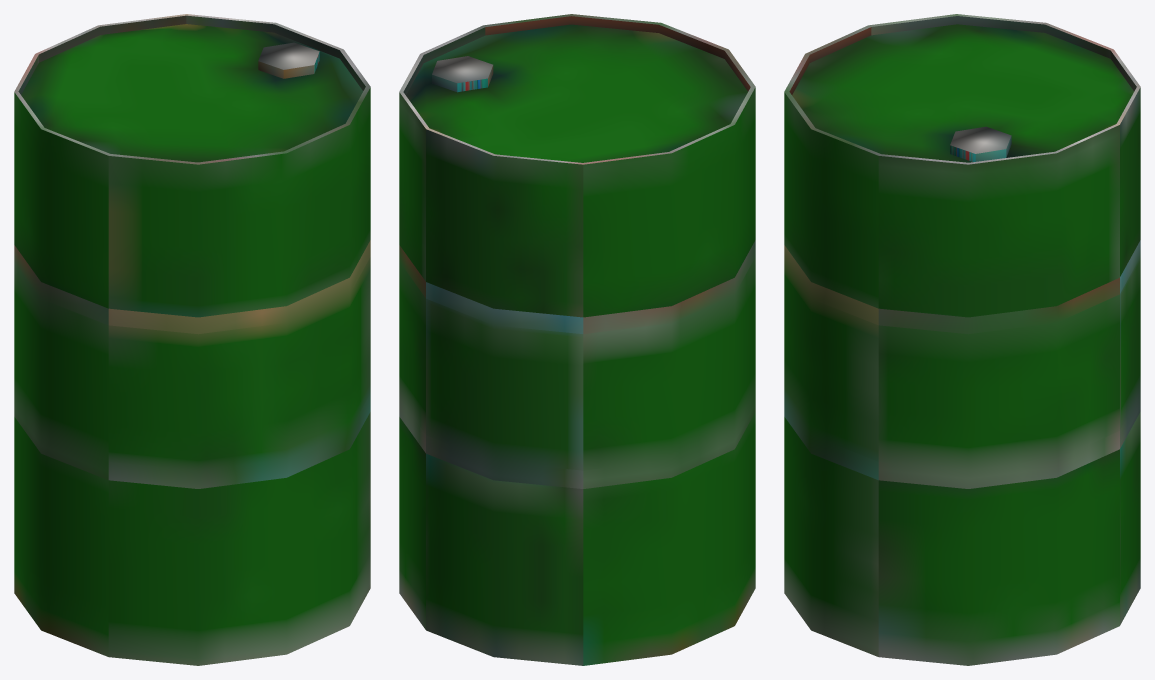
Rendered from junk_02-v2.glb.
3 renders of one model, left to right at view 1: azimuth 30°, elevation 25°; view 2: azimuth 150°, elevation 25°; view 3: azimuth 270°, elevation 25°, orthographic.
Parts seen in each view (by area): view 1: junk_02; view 2: junk_02; view 3: junk_02.
Part boxes in pixels (x1,y1,x2,y2): junk_02: (14, 14, 370, 665); junk_02: (399, 14, 755, 665); junk_02: (784, 14, 1140, 665).
Size of the model in its own units: 1.12 by 1.75 by 1.12.
1 material, 1 textured.
